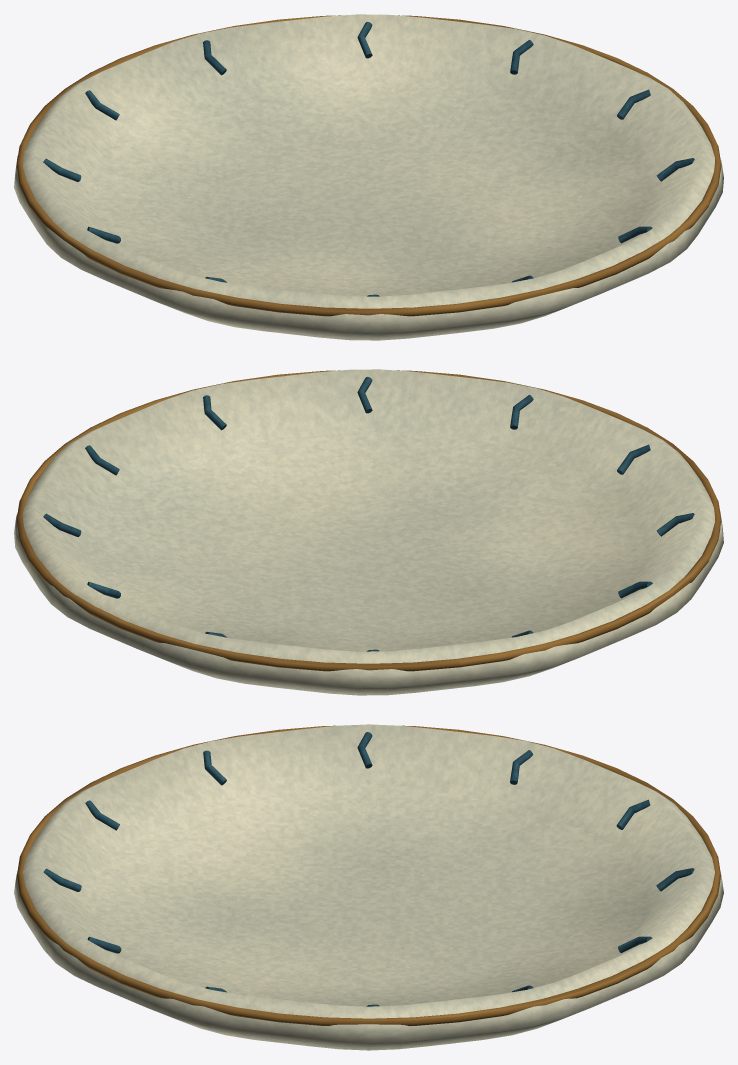
File: PlateIvory.fbx
3 views of the same model, one above another, from view 1: azimuth 30°, elevation 25°; view 2: azimuth 150°, elevation 25°; view 3: azimuth 270°, elevation 25° (orthographic).
Visible parts, largest first — view 1: PlateIvory_Porcelain, PlateIvory_Brass, PlateIvory_BlueGlaze; view 2: PlateIvory_Porcelain, PlateIvory_Brass, PlateIvory_BlueGlaze; view 3: PlateIvory_Porcelain, PlateIvory_Brass, PlateIvory_BlueGlaze.
Part boxes in pixels (x1,y1,x2,y2): PlateIvory_Porcelain: (14,14,723,340); PlateIvory_Brass: (16,15,721,316); PlateIvory_BlueGlaze: (43,22,694,296); PlateIvory_Porcelain: (14,369,723,695); PlateIvory_Brass: (16,370,721,671); PlateIvory_BlueGlaze: (43,377,694,651); PlateIvory_Porcelain: (14,724,723,1050); PlateIvory_Brass: (17,725,720,1025); PlateIvory_BlueGlaze: (43,732,694,1006).
Bounding box in the file's own units: 30.64 × 3.9 × 30.64.
